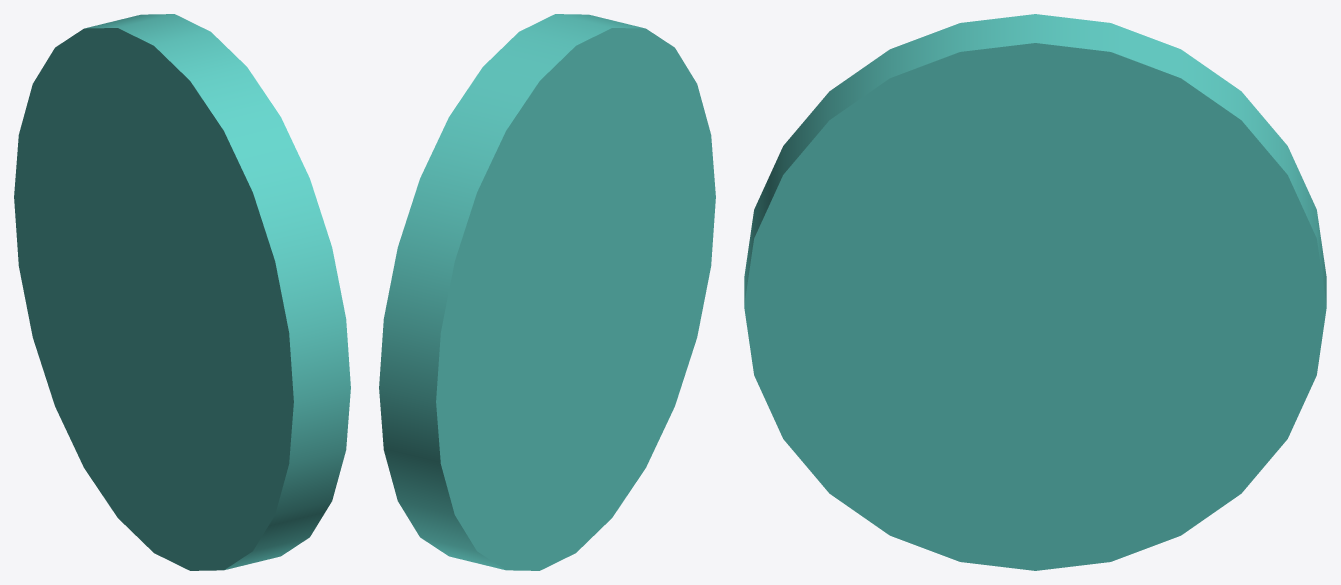
File: plate-striped.gltf
The picture shows the model from 3 angles, left to right: view 1: azimuth 30°, elevation 25°; view 2: azimuth 150°, elevation 25°; view 3: azimuth 270°, elevation 25°; orthographic projection. The views are drawn at different scales.
Parts seen in each view (by area): view 1: item-root; view 2: item-root; view 3: item-root.
Part boxes in pixels (box(x1,y1,x2,y2)): item-root: box(14, 14, 350, 570); item-root: box(379, 14, 715, 570); item-root: box(744, 14, 1326, 570).
Size of the model in its own units: 0.08 by 0.68 by 0.68.
